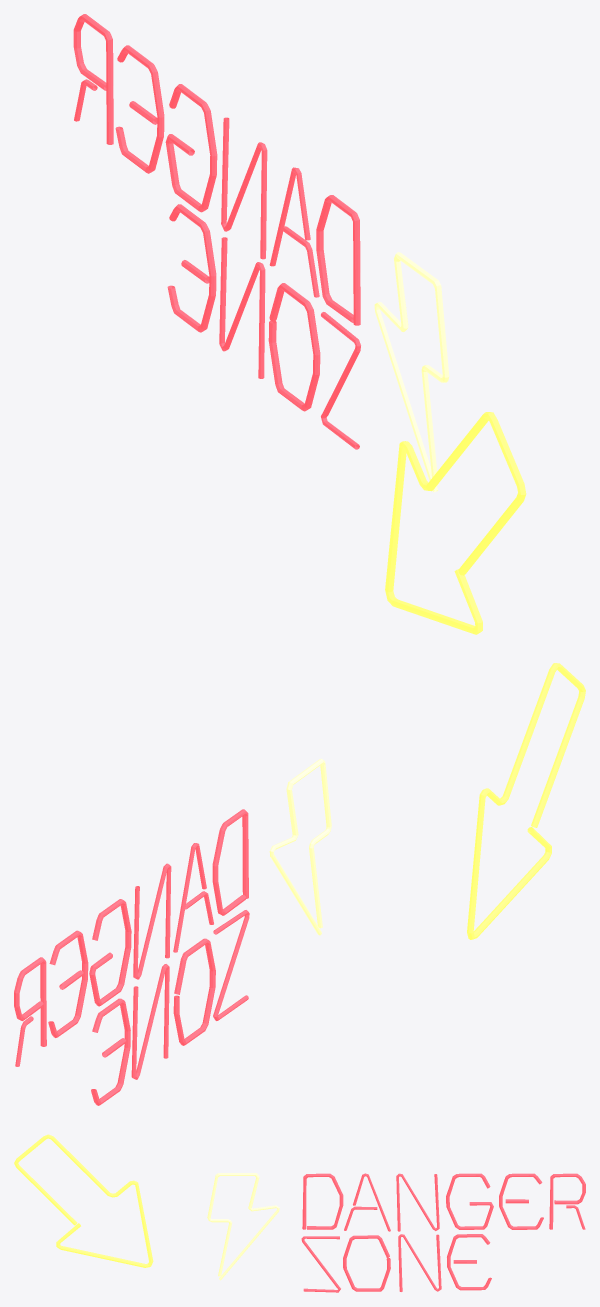
File: NeonLights_ARROW.fbx
The picture shows the model from 3 angles, top to bottom: view 1: azimuth 30°, elevation 25°; view 2: azimuth 150°, elevation 25°; view 3: azimuth 270°, elevation 25°; orthographic projection. The views are drawn at different scales.
Visible parts, largest first — view 1: DangerZone; view 2: DangerZone; view 3: DangerZone.
Boxes of the visible parts, x1=… form: DangerZone: x1=73, y1=14, x2=526, y2=634; DangerZone: x1=14, y1=663, x2=585, y2=1105; DangerZone: x1=14, y1=1134, x2=585, y2=1292.
Bounding box in the file's own units: 10717 × 1432 × 2751.
